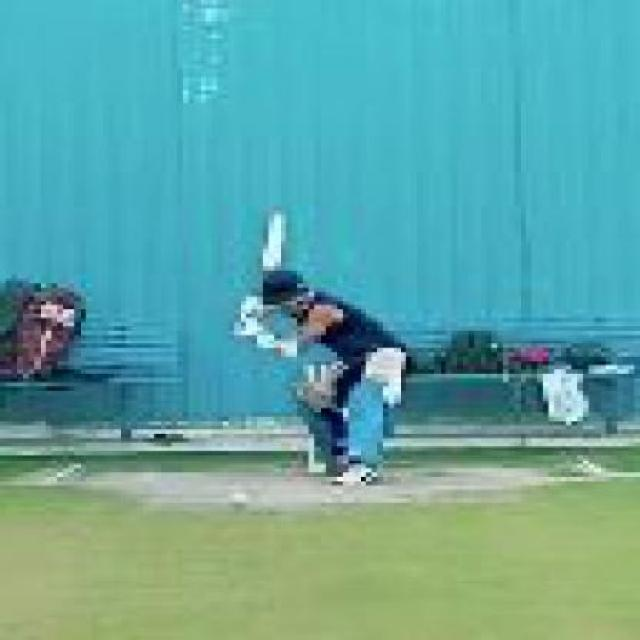ball: (222, 490, 264, 516)
